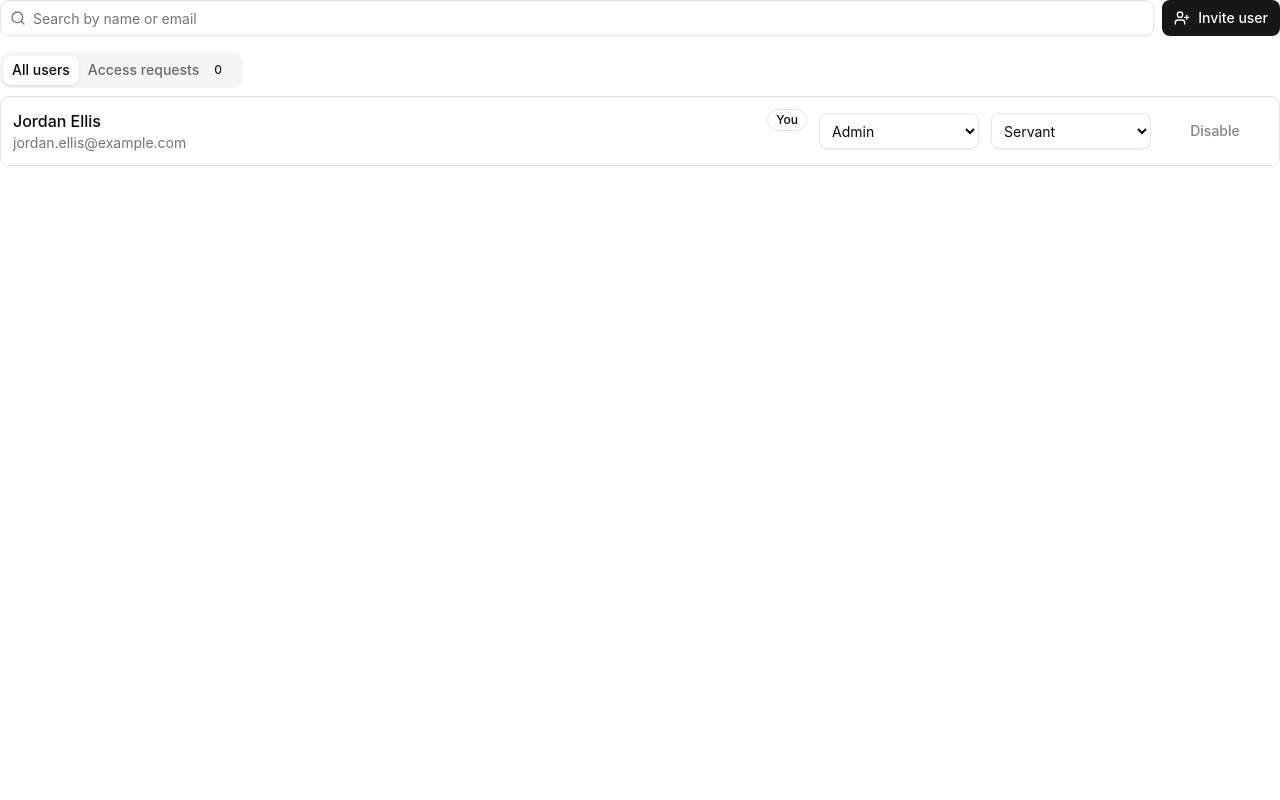
Test: UsersAdmin › invites a user and shows field errors from the server
The width and height of the screenshot is (1280, 800).
Click the button "Invite user" at (1221, 18), box [1162, 0, 1279, 36]
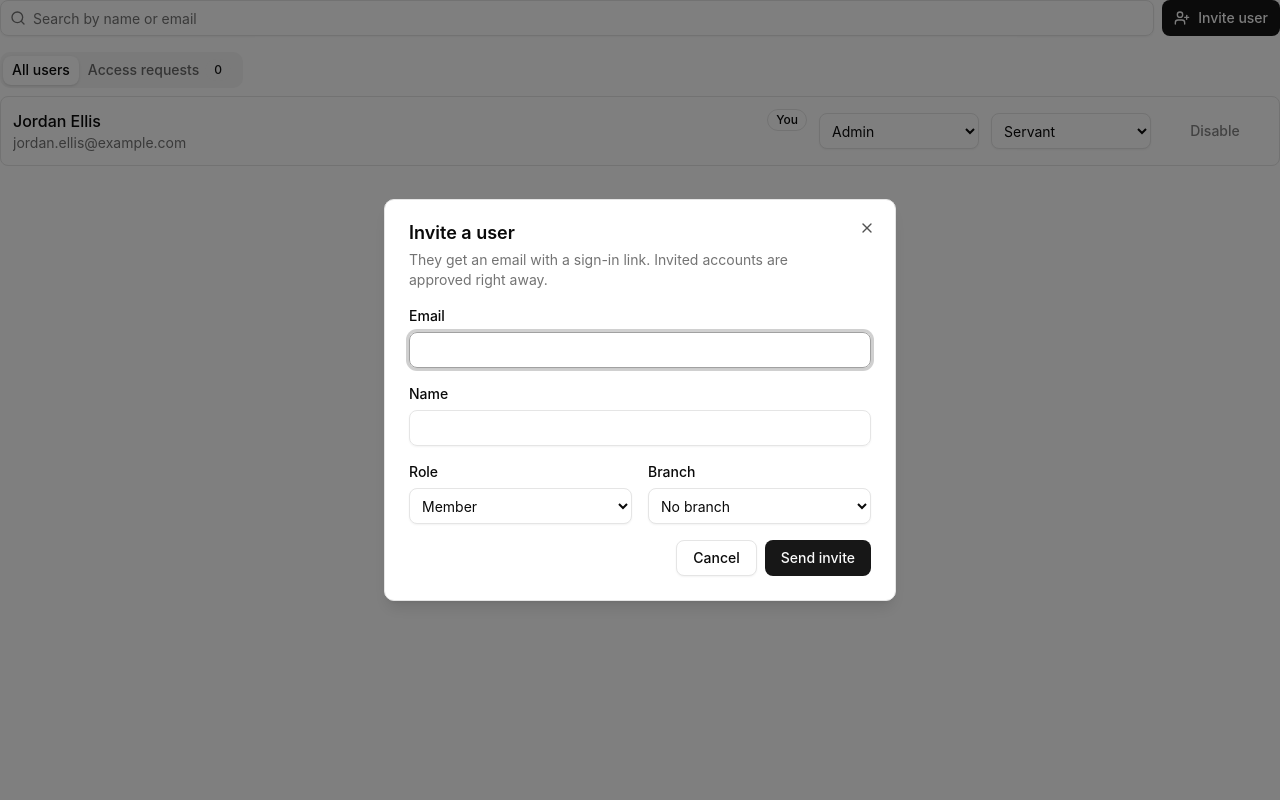
Type "new@example.com" into the field labelled "Email" at (640, 350), box [409, 332, 871, 368]
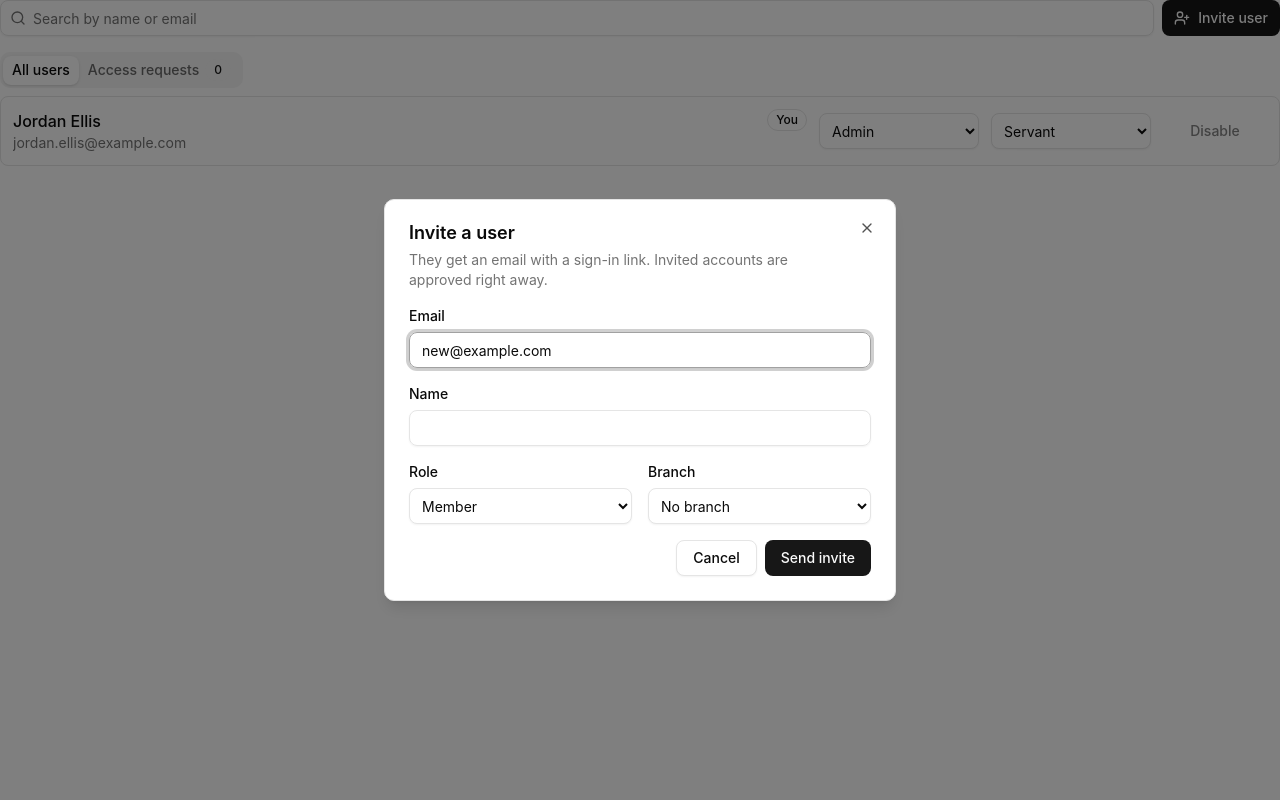
Type "New Person" into the field labelled "Name" at (640, 428), box [409, 410, 871, 446]
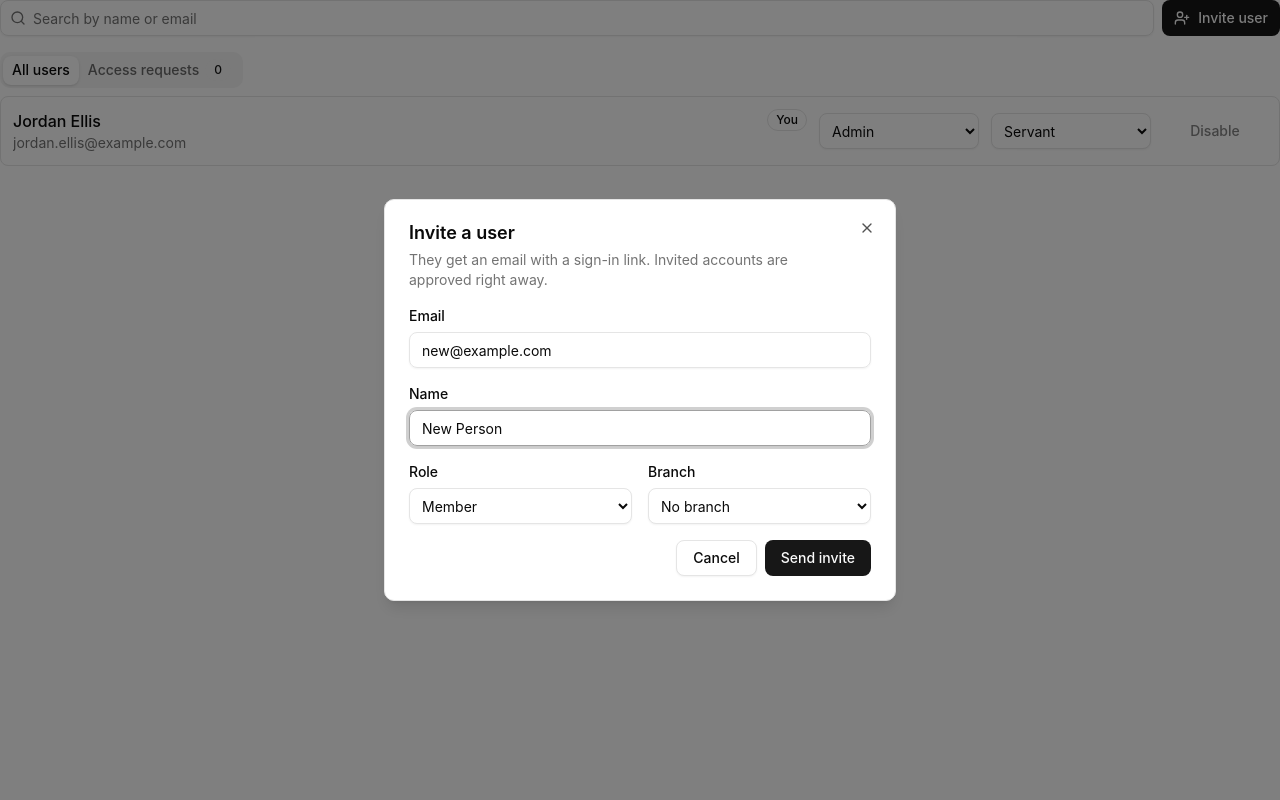
Click the button "Send invite" at (818, 558), box [765, 540, 871, 576]
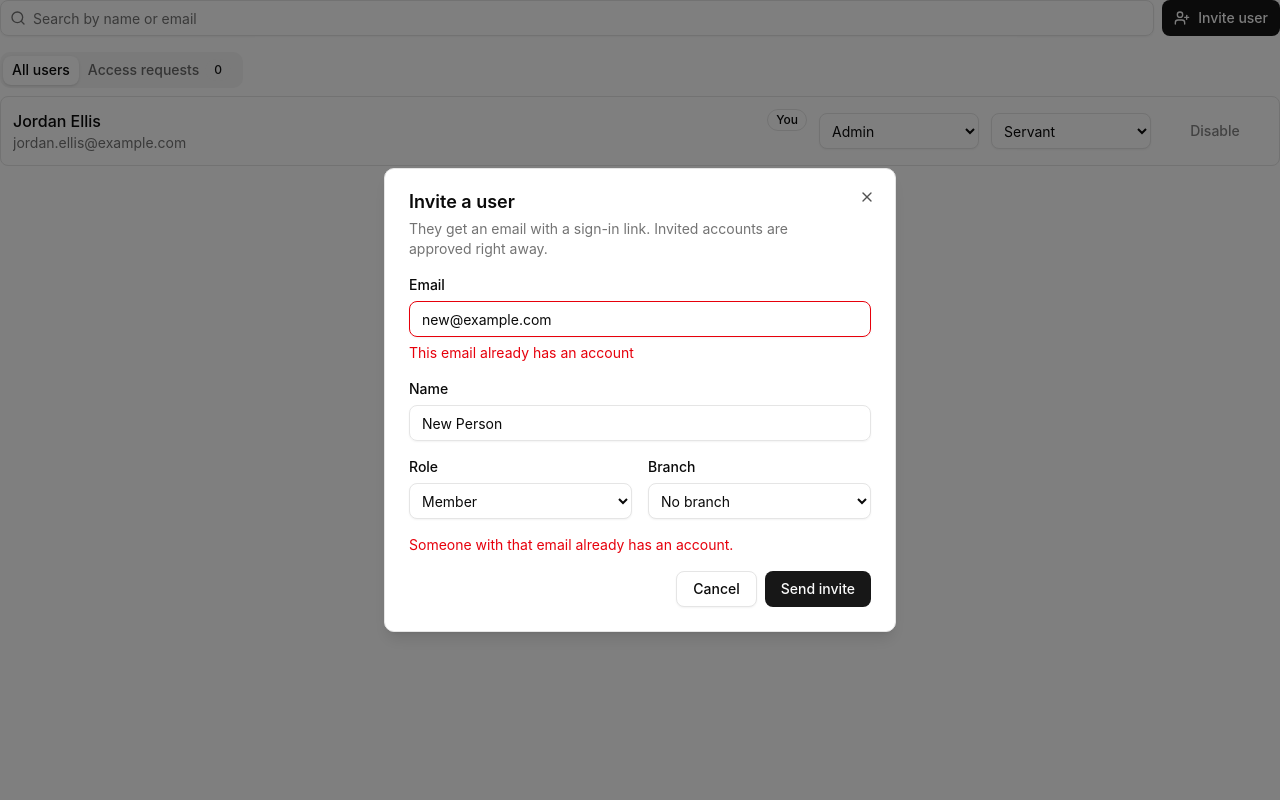
Check: the message shows "already has an account", box [409, 536, 733, 553]
Click the button "Send invite" at (818, 589), box [765, 571, 871, 607]
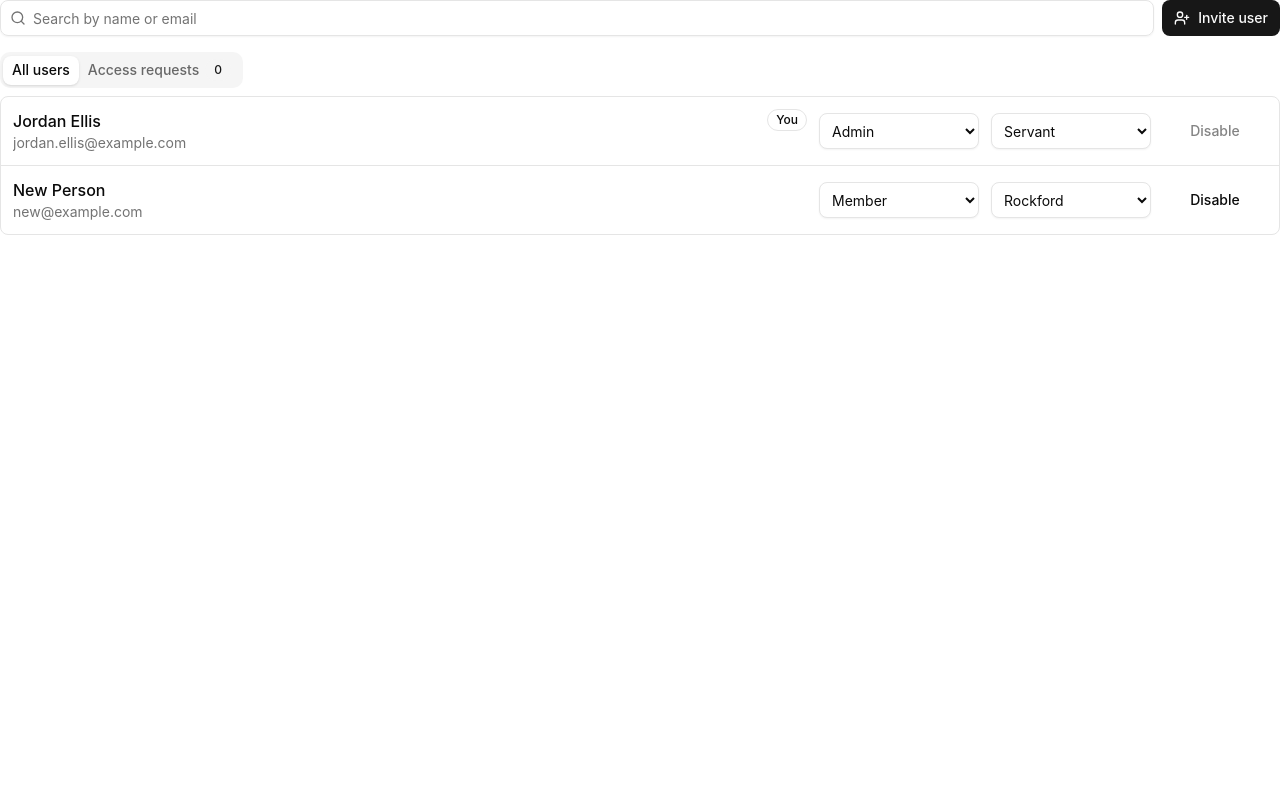
Check: the dialog is gone
Check: the text "New Person" is shown, box [13, 180, 105, 200]
